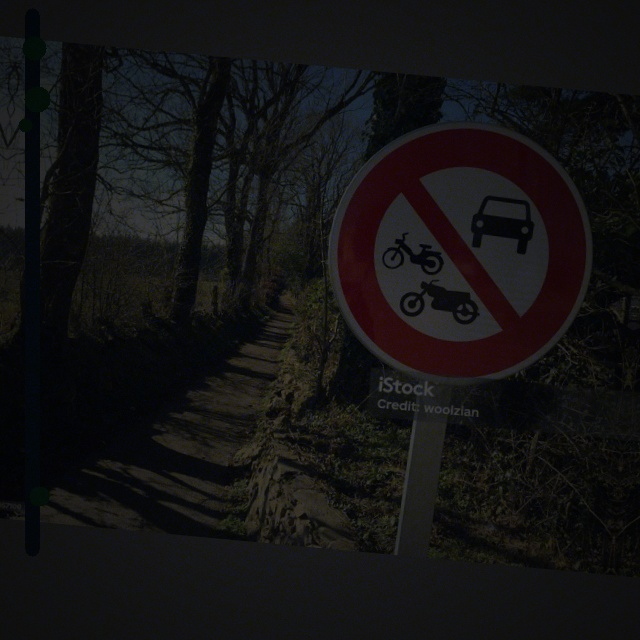All_Motor_Vehicles_Prohibited: (320, 110, 605, 388)
